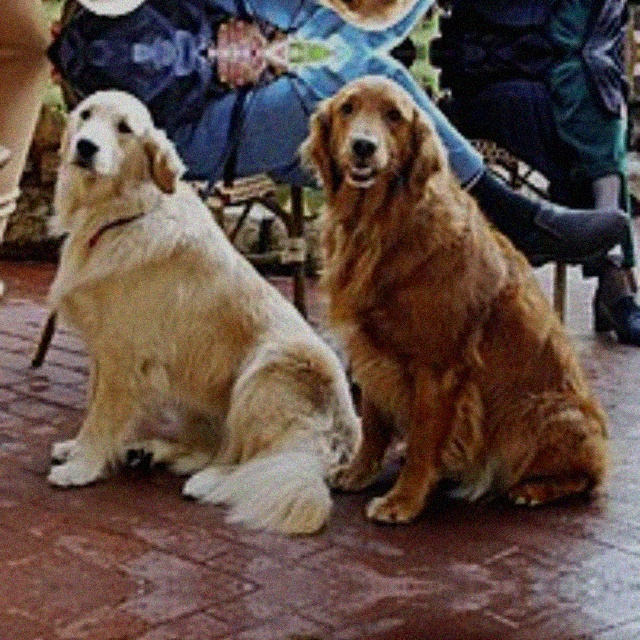dog: (295, 65, 604, 586), (44, 78, 300, 530), (294, 586, 603, 640), (294, 0, 603, 38), (44, 0, 300, 26)
